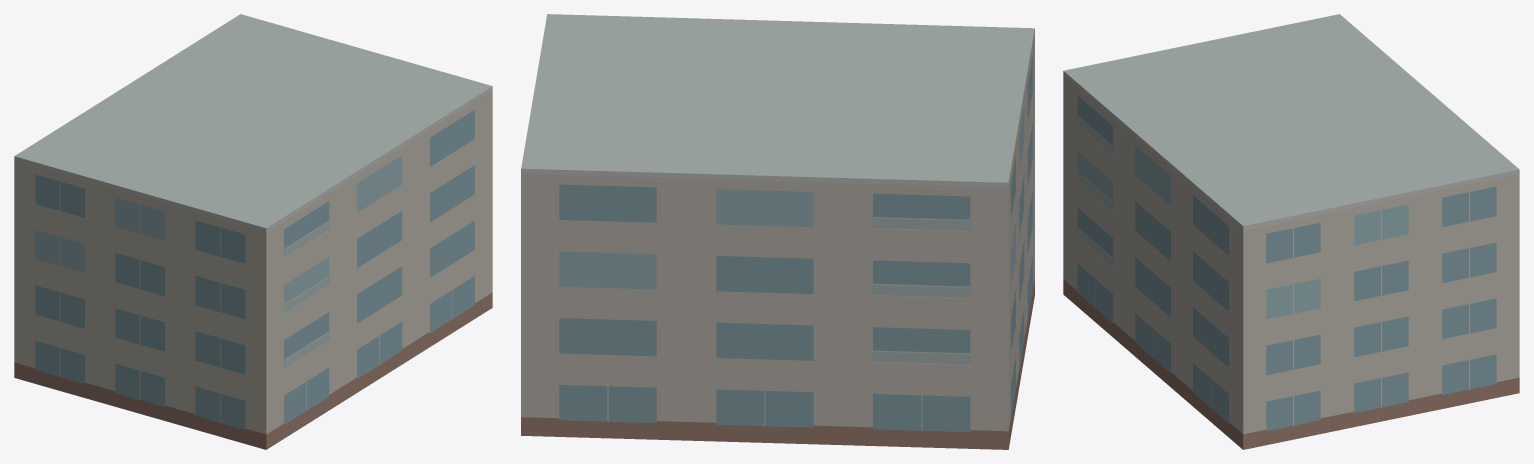
File: survey-upis-32822703.glb
3 views of the same model, side by side, from view 1: azimuth 30°, elevation 25°; view 2: azimuth 150°, elevation 25°; view 3: azimuth 270°, elevation 25° (orthographic). The views are drawn at different scales.
Visible parts, largest first — view 1: survey-upis-32822703.tmp; view 2: survey-upis-32822703.tmp; view 3: survey-upis-32822703.tmp.
Boxes of the visible parts, <box> form: survey-upis-32822703.tmp: <box>14,14,492,449</box>; survey-upis-32822703.tmp: <box>521,14,1034,449</box>; survey-upis-32822703.tmp: <box>1063,14,1519,449</box>.
Bounding box in the file's own units: 25.22 × 12.4 × 22.92.
